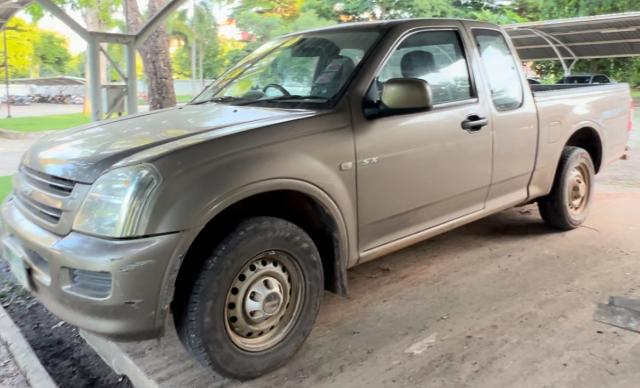pickup-truck: (4, 17, 633, 384)
